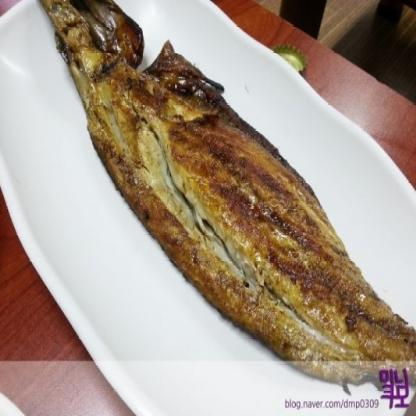Peixe: (31, 0, 416, 360)
